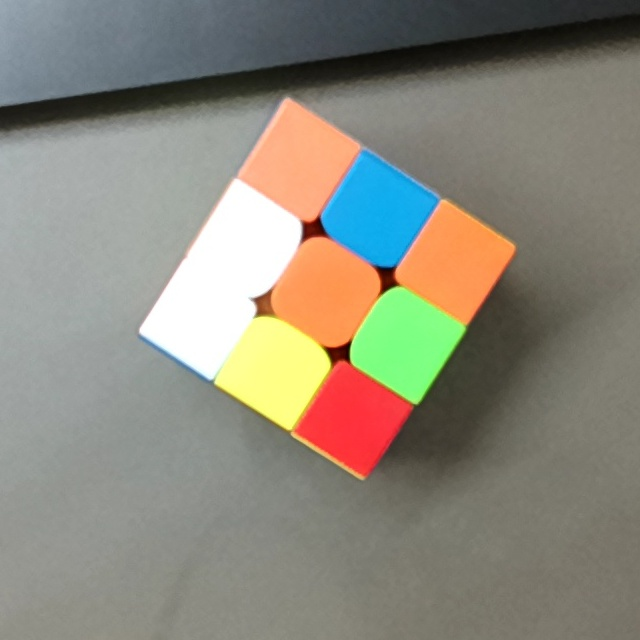tile: (429, 224, 490, 295), (346, 179, 409, 243), (297, 258, 357, 323), (243, 340, 309, 398), (219, 210, 280, 270), (321, 389, 384, 446), (272, 133, 328, 196), (169, 287, 224, 349), (379, 317, 437, 375)
